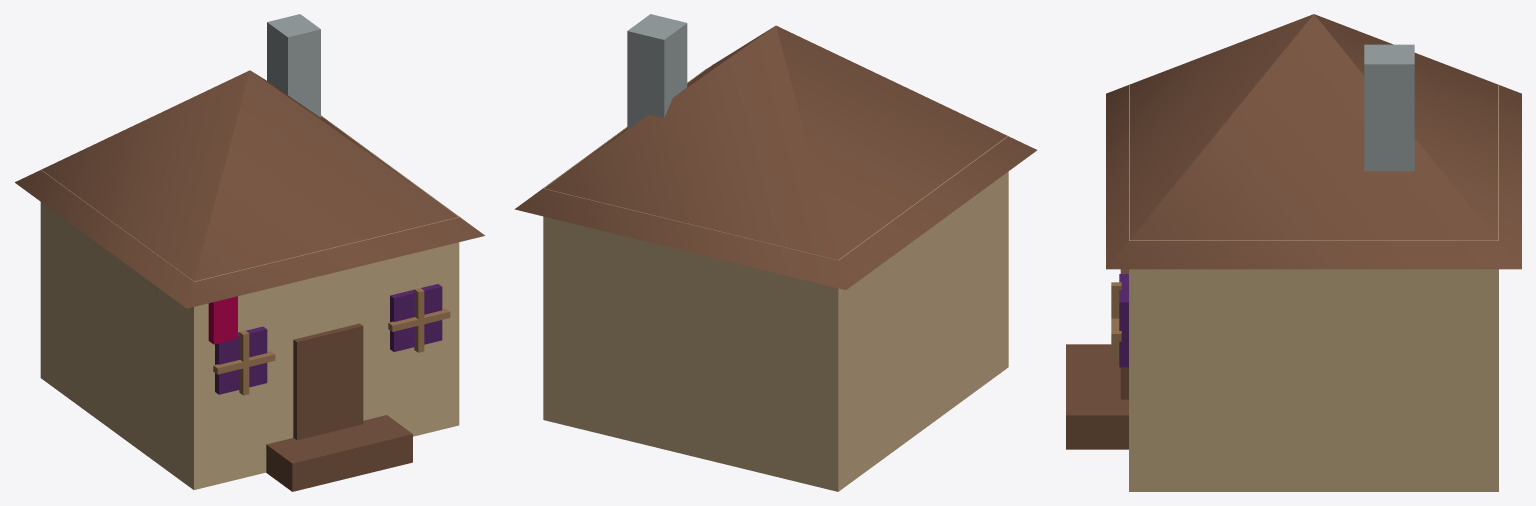
File: house.glb
The picture shows the model from 3 angles, left to right: view 1: azimuth 30°, elevation 25°; view 2: azimuth 150°, elevation 25°; view 3: azimuth 270°, elevation 25°; orthographic projection. The views are drawn at different scales.
Size of the model in its own units: 4.95 by 5.31 by 5.42.
